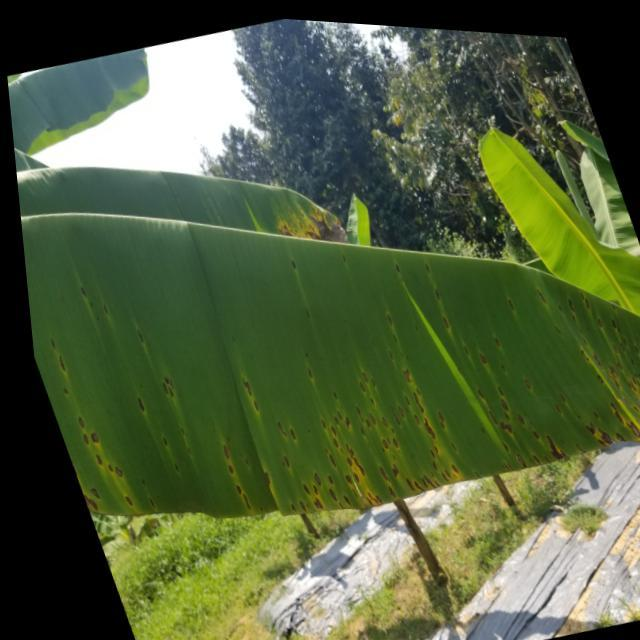Early_rust: (31, 186, 640, 529)
